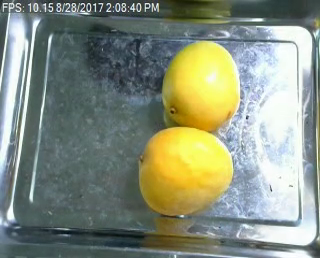Mango: (136, 125, 233, 217), (160, 40, 241, 130)
